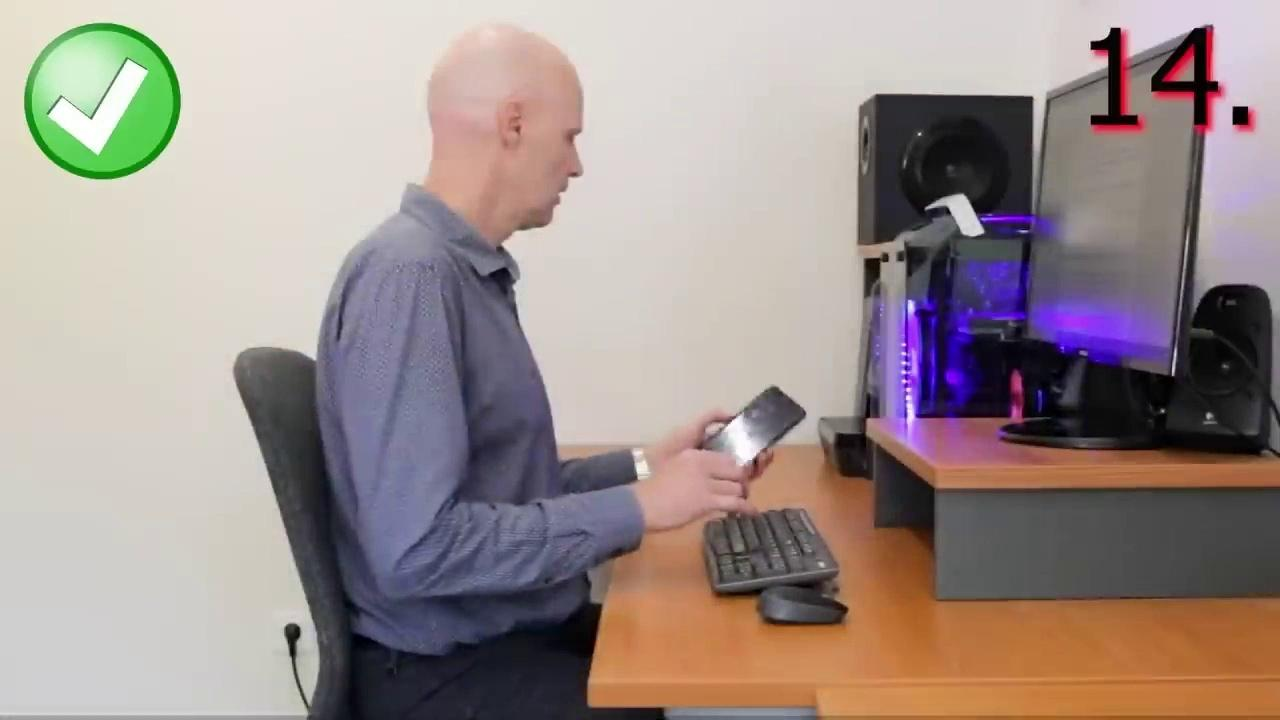GoodPosture: (316, 24, 771, 719)
